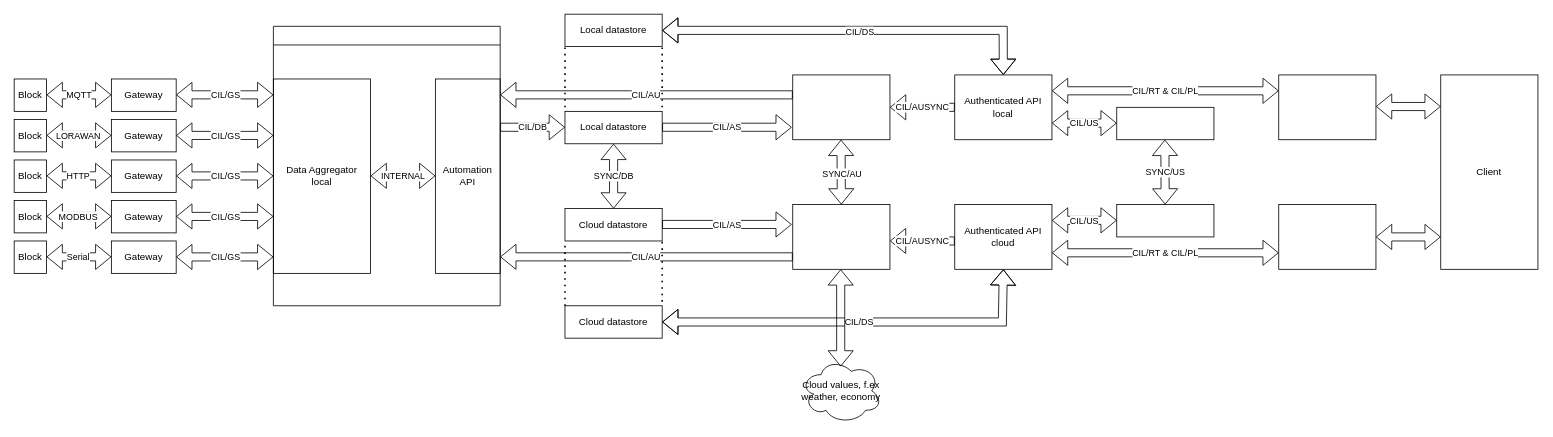
Image size: 1553x437. Some labels were removed from this diagram. The centre of each missing label's shape, as x and y in pixels:
Cloud automation server: [841,236]
Cloud GUI: [1327,236]
Cloud Userstore: [1165,220]
Edge device: [386,166]
Local automation server: [841,107]
Local GUI: [1327,107]
Local Userstore: [1165,123]
